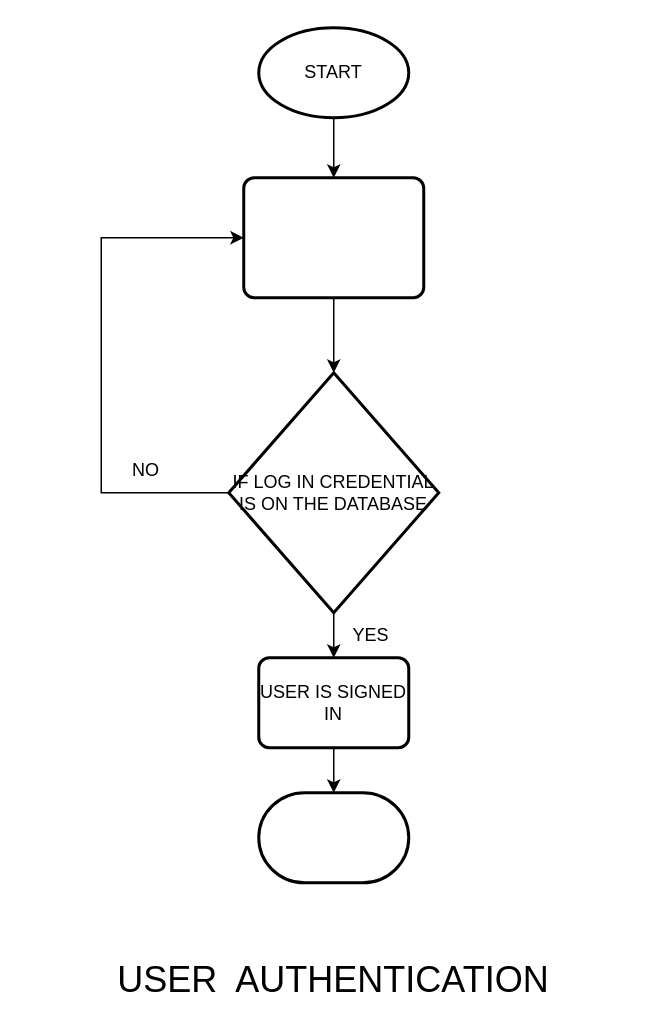
Some shapes in this 666 by 1028 pixel diagram are drawn without their labels. The shapes that lost their labels are listed below. From the top down, each one's centre as x and y in pixels, then its label:
(333,237): USER IS ASKED FOR LOGIN CREDENTIALS
(333,837): END
